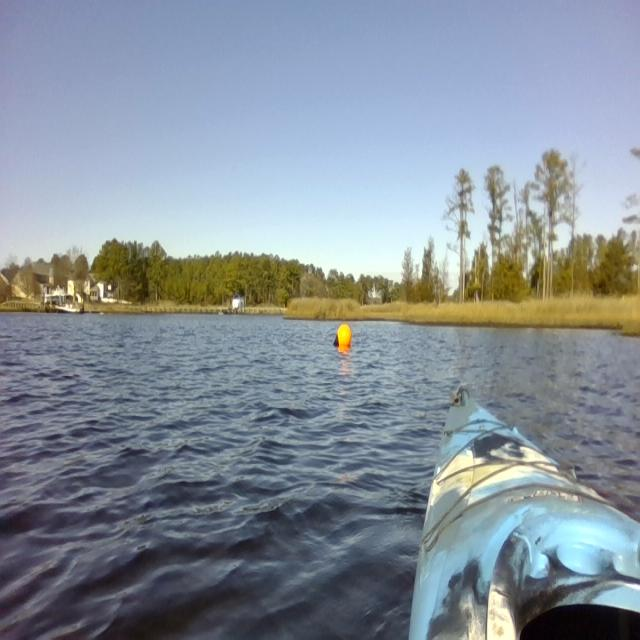Buoy: (332, 319, 358, 358)
